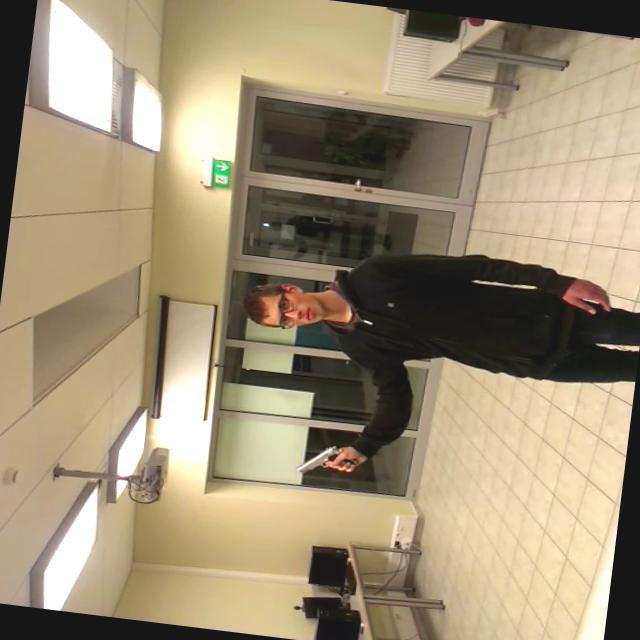handgun: (271, 426, 376, 483)
